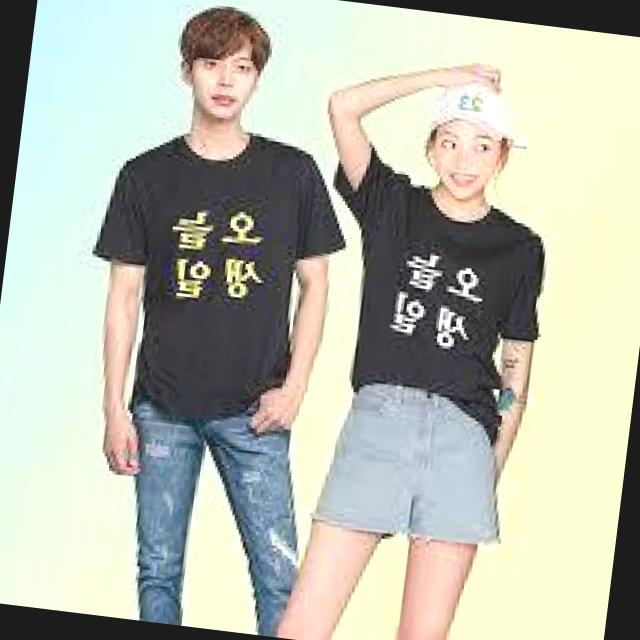Tshirt: (62, 104, 374, 448), (332, 173, 582, 443)
pants: (99, 344, 333, 640)
short: (304, 375, 527, 555)
